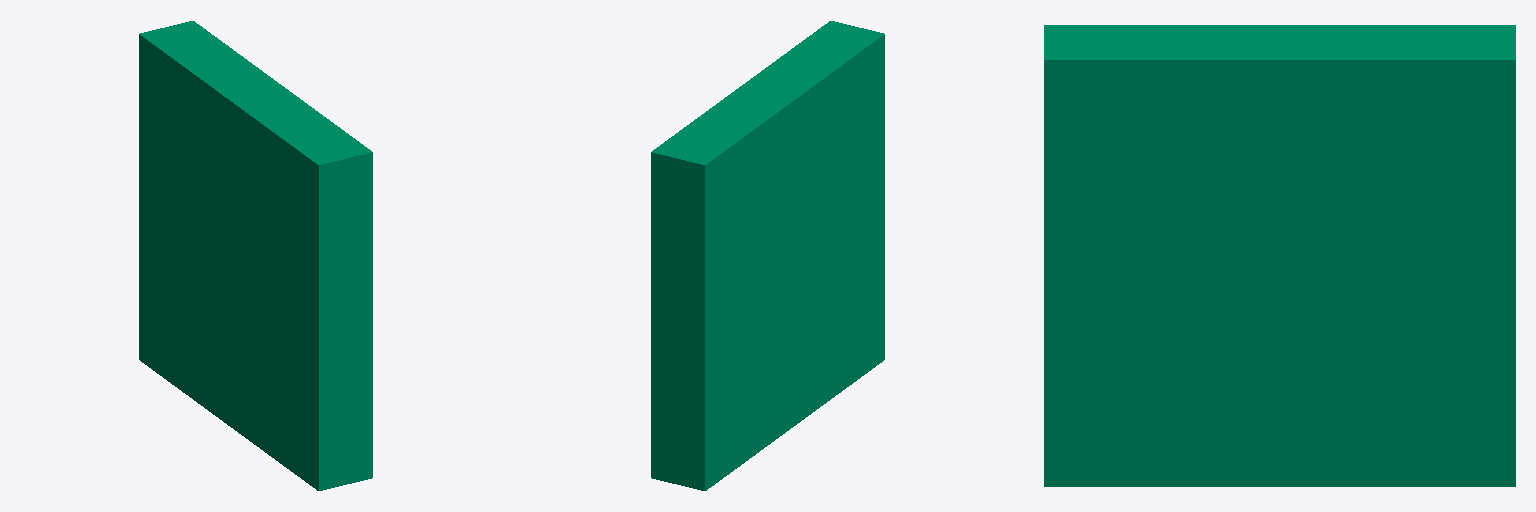
The robot description file, URDF, robot "rb2cart":
<?xml version="1.0" ?>
<robot name="rb2cart">
  <joint name="rb2cart__link_1_JOINT_1" type="fixed">
    <parent link="rb2cart__link_1"/>
    <child link="rb2cart__link_0"/>
    <origin rpy="0 0 0" xyz="0 0 0"/>
    <axis xyz="0 0 0"/>
    <limit effort="0" lower="0" upper="0" velocity="0"/>
  </joint>
  <joint name="rb2cart__link_1_JOINT_2" type="fixed">
    <parent link="rb2cart__link_1"/>
    <child link="rb2cart__link_2"/>
    <origin rpy="0 0 0" xyz="0      0      0.19833"/>
    <axis xyz="0 0 0"/>
    <limit effort="0" lower="0" upper="0" velocity="0"/>
  </joint>
  <link name="rb2cart__link_0">
    <inertial>
      <mass value="2.0"/>
      <origin rpy="0 0 0" xyz="0 0 0"/>
      <inertia ixx="0.106667" ixy="0" ixz="0" iyy="0.106667" iyz="0" izz="0.106667"/>
    </inertial>
    <collision name="rb2cart__collision">
      <origin rpy="0 0 0" xyz="0 0 0"/>
      <geometry>
        <mesh filename="package://PATHTOMESHES/meshes/cart_structure.dae" scale="1.0 1.0 1.0"/>
      </geometry>
    </collision>
    <visual name="rb2cart__visual">
      <origin rpy="0 0 0" xyz="0 0 0"/>
      <geometry>
        <mesh filename="package://PATHTOMESHES/meshes/cart_structure.dae" scale="1 1 1"/>
      </geometry>
    </visual>
  </link>
  <link name="rb2cart__link_1">
    <inertial>
      <mass value="0.0001"/>
      <origin rpy="0 0 0" xyz="0 0 0"/>
      <inertia ixx="0.166667" ixy="0" ixz="0" iyy="0.166667" iyz="0" izz="0.166667"/>
    </inertial>
    <visual name="rb2cart__visual">
      <origin rpy="0 0 0" xyz="0       0      -0.00666"/>
      <geometry>
        <mesh filename="package://PATHTOMESHES/meshes/qr_structure.dae" scale="1 1 1"/>
      </geometry>
    </visual>
  </link>
  <link name="rb2cart__link_2">
    <inertial>
      <mass value="0.0001"/>
      <origin rpy="0 0 0" xyz="0 0 0"/>
      <inertia ixx="0.166667" ixy="0" ixz="0" iyy="0.166667" iyz="0" izz="0.166667"/>
    </inertial>
    <visual name="rb2cart__visual">
      <origin rpy="0 0 0" xyz="0 0 0"/>
      <geometry>
        <box size="0.021 0.12 0.12"/>
      </geometry>
    </visual>
  </link>
</robot>

--- Render facts (derived) ---
The picture shows the robot from 3 angles, left to right: view 1: azimuth 30°, elevation 25°; view 2: azimuth 150°, elevation 25°; view 3: azimuth 270°, elevation 25°; orthographic projection.
Robot: rb2cart — 3 links, 2 joints (2 fixed); root link rb2cart__link_1; default pose: all joints at 0.
Visible links, largest first — view 1: rb2cart__link_2; view 2: rb2cart__link_2; view 3: rb2cart__link_2.
Link boxes in pixels (x1=…): rb2cart__link_2: x1=139, y1=21, x2=372, y2=490; rb2cart__link_2: x1=651, y1=21, x2=884, y2=490; rb2cart__link_2: x1=1044, y1=25, x2=1515, y2=486.
Bounding box of the posed robot: 0.021 × 0.12 × 0.12 m (x, y, z).
Meshes: 2 distinct files referenced, 0 mesh visuals loaded (none loaded); not drawn: 2 (reference not matched to a file when rendering).